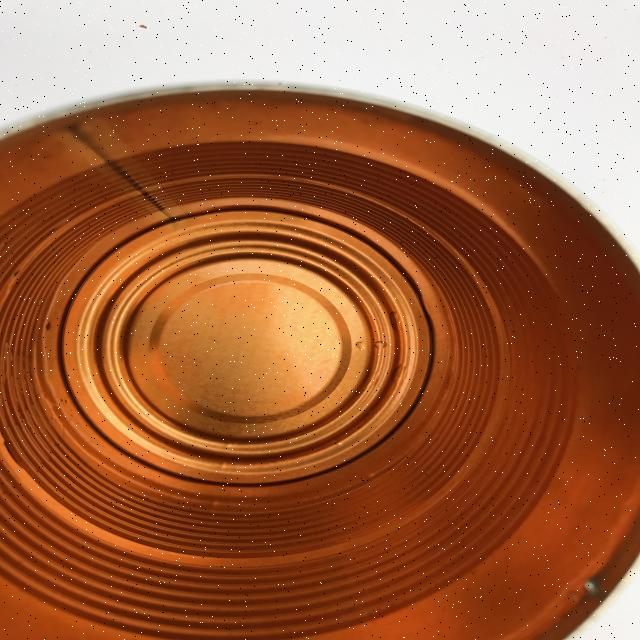metal: (1, 81, 638, 638)
